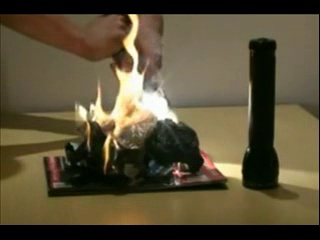fire: (103, 12, 141, 151), (76, 80, 117, 172)
smoke: (141, 14, 176, 132)
